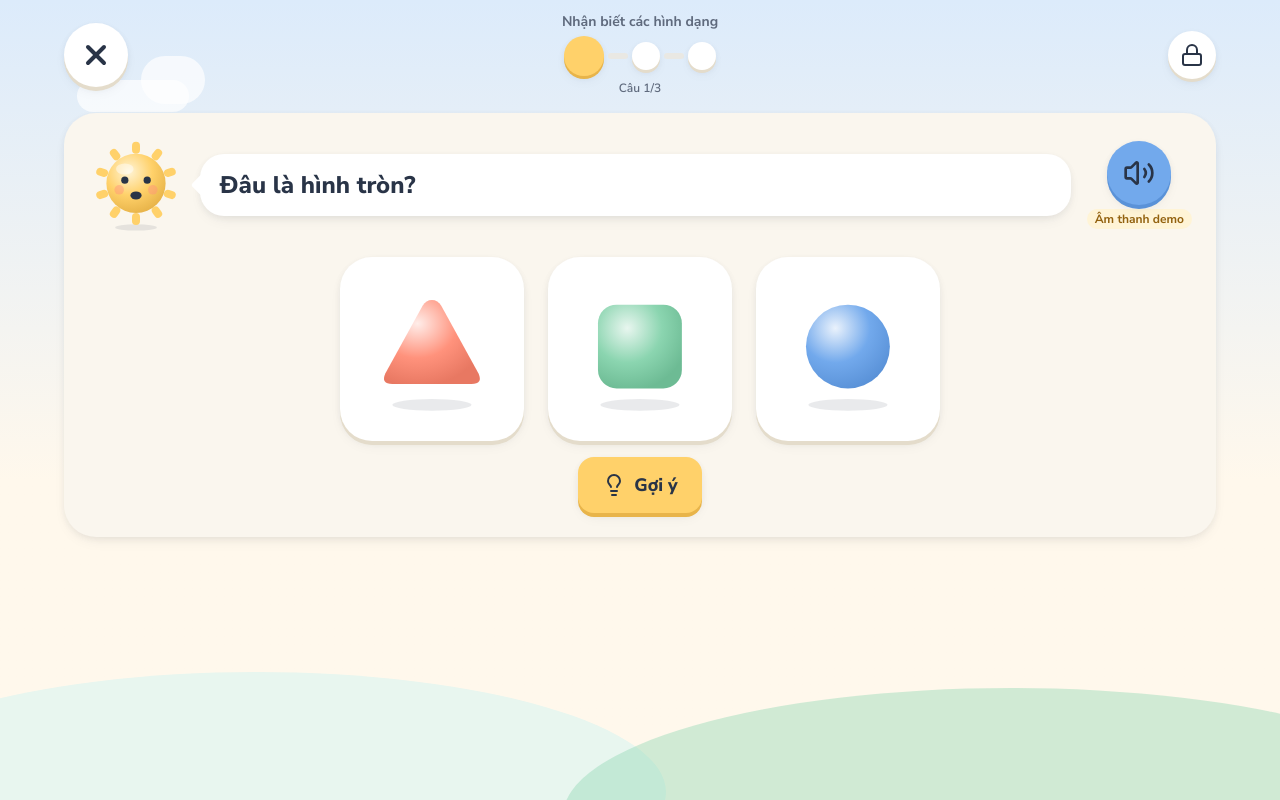
Test: LessonPlayer (server-graded session) › reuses the idempotency key when a request fails, so the answer is recorded once
The image size is (1280, 800).
Click the button named "Hình tròn". click: (848, 349)
box: x1=756 y1=257 x2=940 y2=441
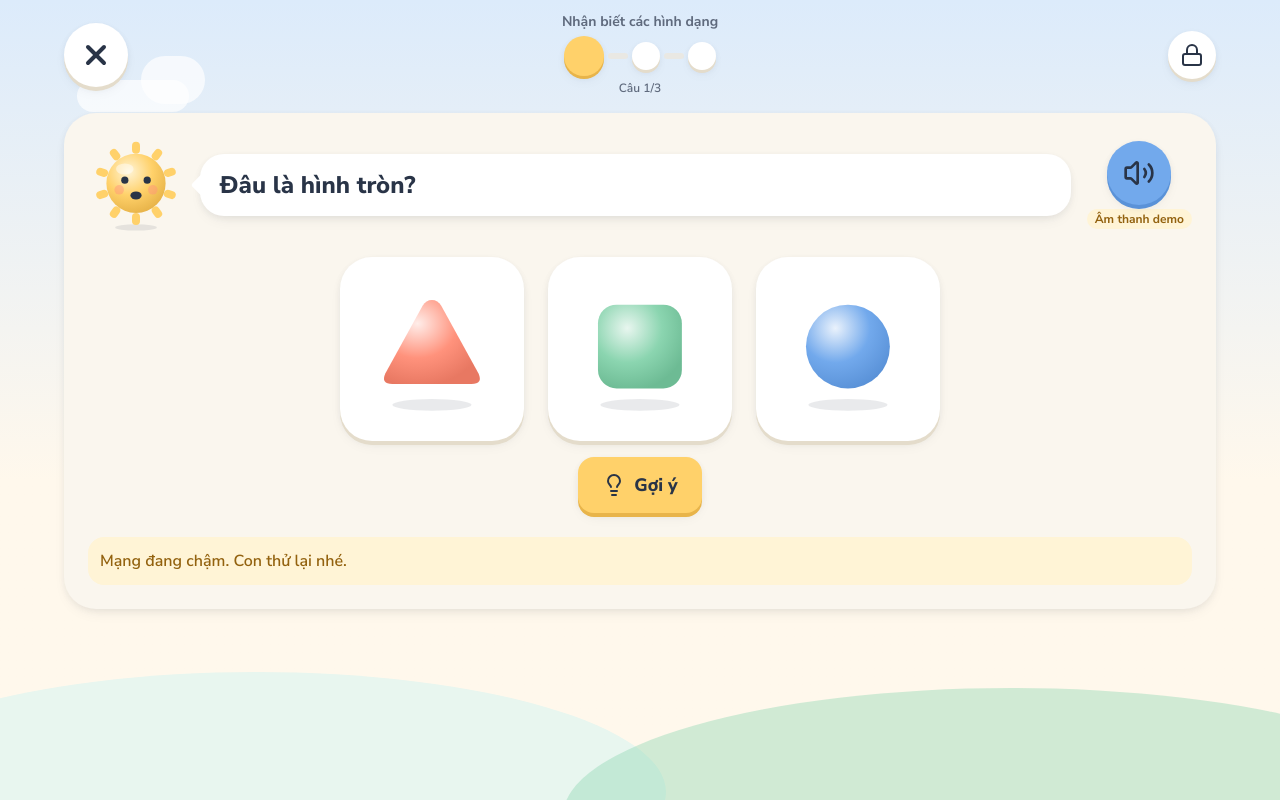
Result: the text "Mạng đang chậm. Con thử lại nhé." is shown at x1=88 y1=537 x2=1192 y2=585
Click the button named "Hình tròn". click: (848, 349)
box: x1=756 y1=257 x2=940 y2=441
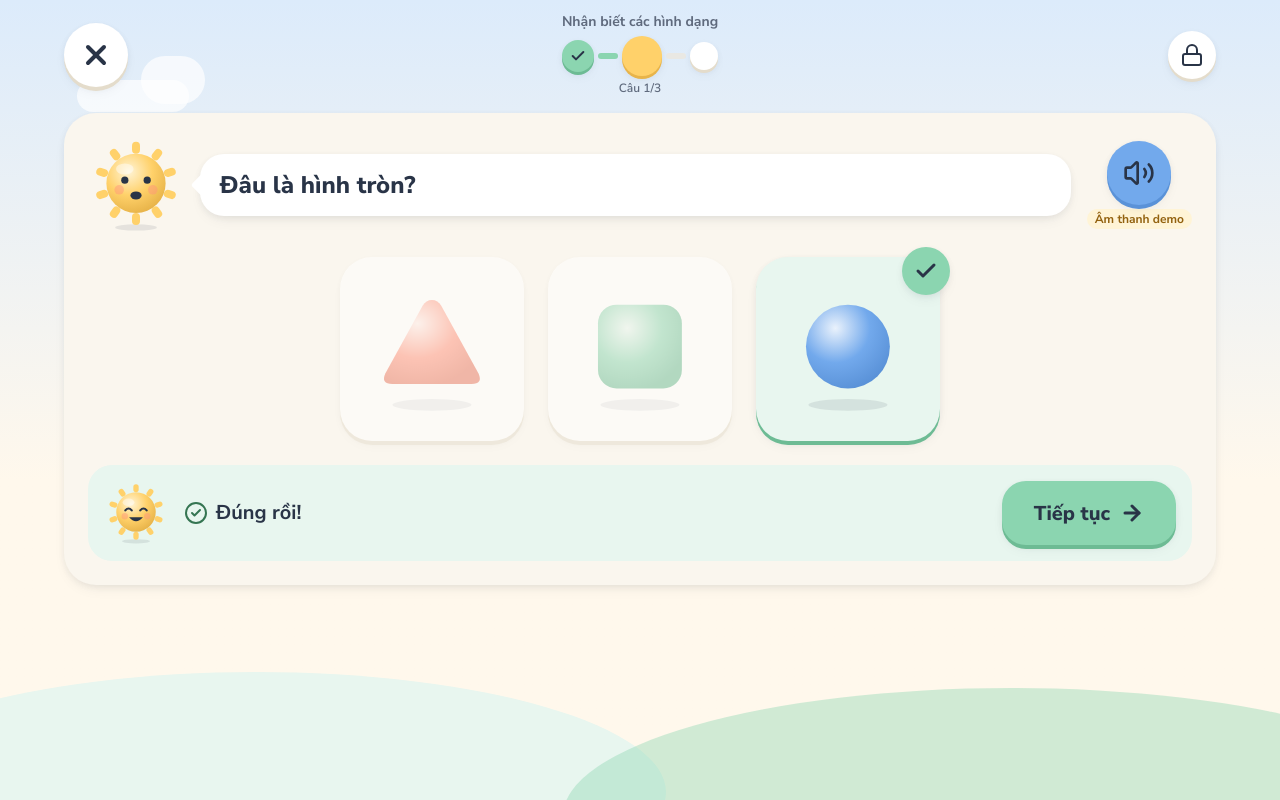
Result: the text "Đúng rồi!" is shown at x1=184 y1=499 x2=301 y2=526
